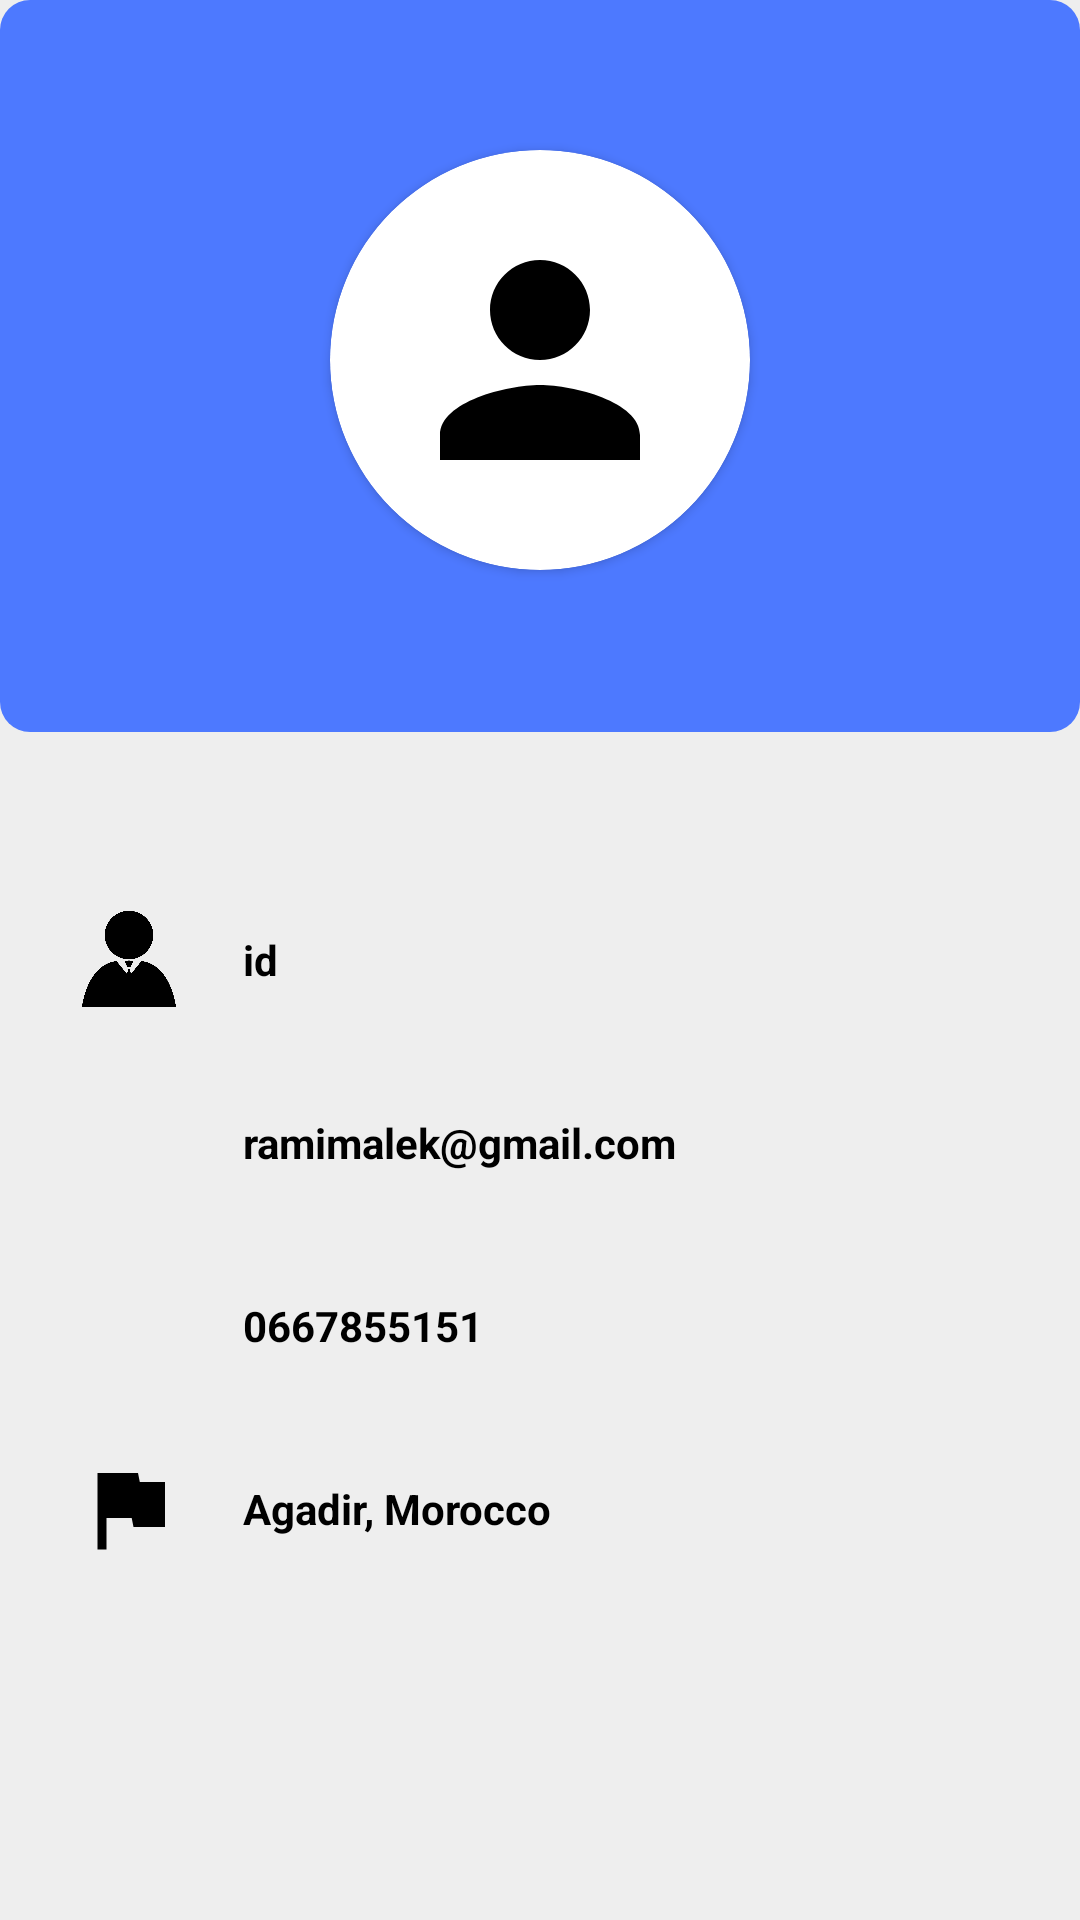

Where icons sit on this 1080px x 1920px app screen, as (left=x1, top=y1, right=x2, bottom=y2):
client: (left=82, top=911, right=176, bottom=1007)
flag: (left=97, top=1473, right=165, bottom=1550)
